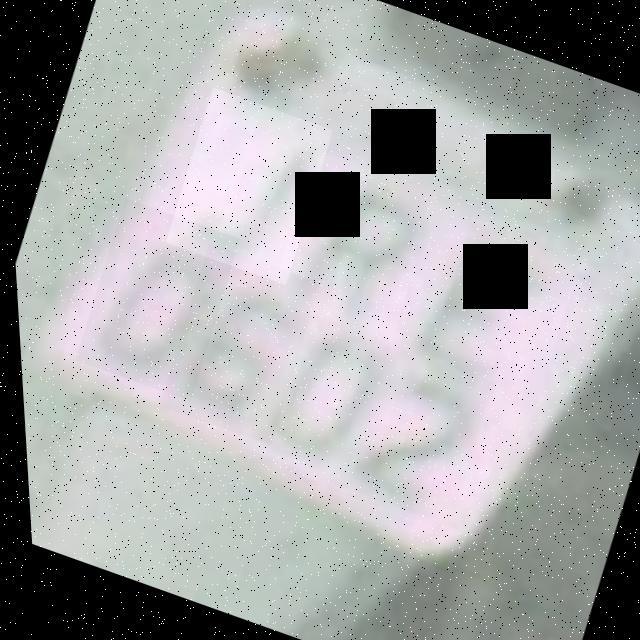0: (224, 292, 416, 492), (63, 198, 245, 401)
2: (312, 340, 496, 534)
6: (147, 244, 324, 446)
J: (155, 87, 338, 286)
R: (259, 149, 442, 343)
